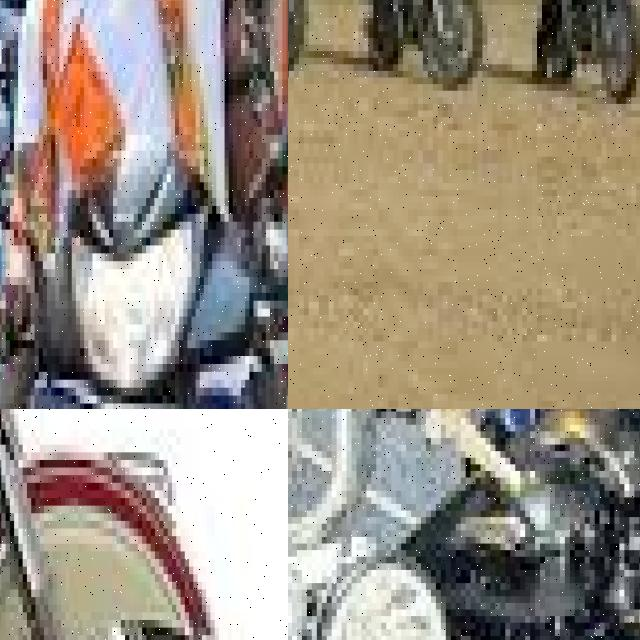bike: (18, 127, 286, 409), (0, 409, 240, 640), (288, 464, 475, 640), (353, 0, 487, 90), (527, 0, 640, 97)
